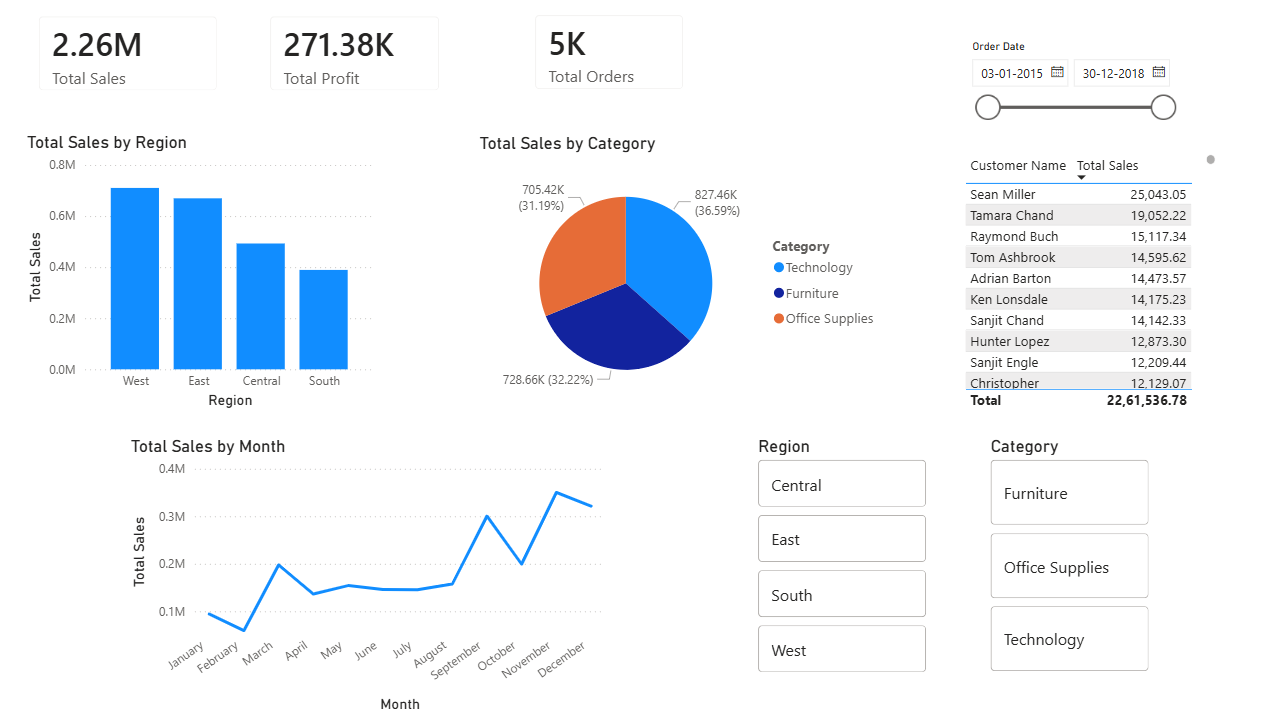

The page's visual inventory and layout, read from the dashboard file:
{"tool":"powerbi","page":{"name":"Page 1","canvas":[1280,720],"ordinal":0},"visuals":[{"type":"cardVisual","fields":{"Data":["Working Set.Total Sales"]},"box":[24.7,2.7,212.7,108.4],"z":0},{"type":"cardVisual","fields":{"Data":["Working Set.Total Profit"]},"box":[256.6,2.7,203.1,108.4],"z":1000},{"type":"cardVisual","fields":{"Data":["Working Set.Total Orders"]},"box":[521.4,1.4,182.5,108.4],"z":2000},{"type":"clusteredColumnChart","fields":{"Category":["Working Set.Region"],"Y":["Working Set.Total Sales"]},"box":[24.7,134.5,358.1,281.3],"z":3000},{"type":"pieChart","fields":{"Category":["Working Set.Category"],"Y":["Working Set.Total Sales"]},"box":[477.5,135.8,413,281.3],"z":4000},{"type":"lineChart","fields":{"Category":["Working Set.Order Date.Variation.Date Hierarchy.Month"],"Y":["Working Set.Total Sales"]},"box":[129,439.1,484.4,281.3],"z":5000},{"type":"tableEx","fields":{"Values":["Working Set.Customer Name","Working Set.Total Sales"]},"box":[961.9,152.3,260.7,264.8],"z":6000},{"type":"advancedSlicerVisual","fields":{"Values":["Working Set.Region"]},"box":[756.1,439.1,178.4,241.5],"z":7000},{"type":"advancedSlicerVisual","fields":{"Values":["Working Set.Category"]},"box":[989.4,439.1,168.8,241.5],"z":8000},{"type":"slicer","fields":{"Values":["Working Set.Order Date"]},"box":[961.9,37,225,97.4],"z":9000}]}

Visuals, with their boxes in screenshot pixels (x1, y1, x2, y2), scaled from the page's 1280x720 canvas onto the 1270x714 screenshot:
cardVisual - Working Set.Total Sales: (x1=25, y1=3, x2=236, y2=110)
cardVisual - Working Set.Total Profit: (x1=255, y1=3, x2=456, y2=110)
cardVisual - Working Set.Total Orders: (x1=517, y1=1, x2=698, y2=109)
clusteredColumnChart - Working Set.Region x Working Set.Total Sales: (x1=25, y1=133, x2=380, y2=412)
pieChart - Working Set.Category x Working Set.Total Sales: (x1=474, y1=135, x2=884, y2=414)
lineChart - Working Set.Order Date.Variation.Date Hierarchy.Month x Working Set.Total Sales: (x1=128, y1=435, x2=609, y2=713)
tableEx - Working Set.Customer Name x Working Set.Total Sales: (x1=954, y1=151, x2=1213, y2=414)
advancedSlicerVisual - Working Set.Region: (x1=750, y1=435, x2=927, y2=675)
advancedSlicerVisual - Working Set.Category: (x1=982, y1=435, x2=1149, y2=675)
slicer - Working Set.Order Date: (x1=954, y1=37, x2=1178, y2=133)
